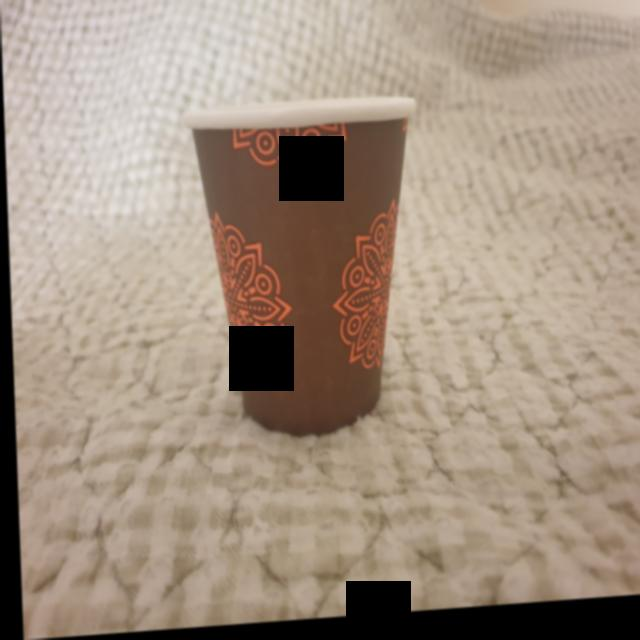cups: (181, 95, 430, 448)
